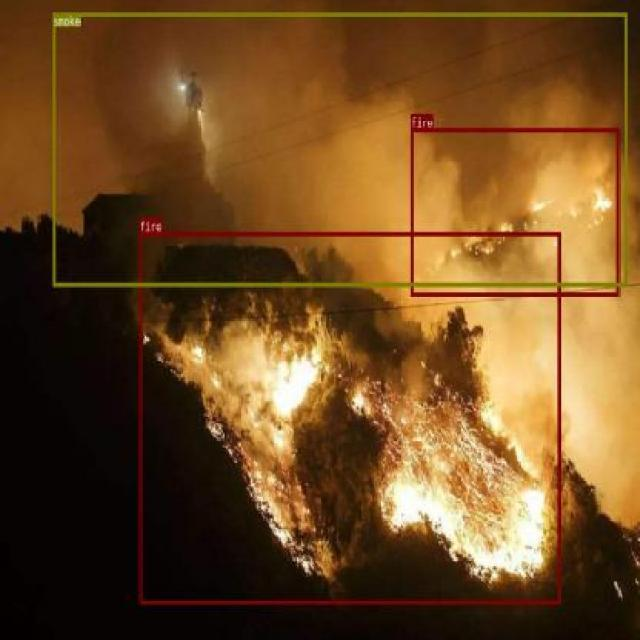Fire: (138, 231, 560, 604), (411, 128, 618, 297)
Smoke: (52, 12, 626, 286)
